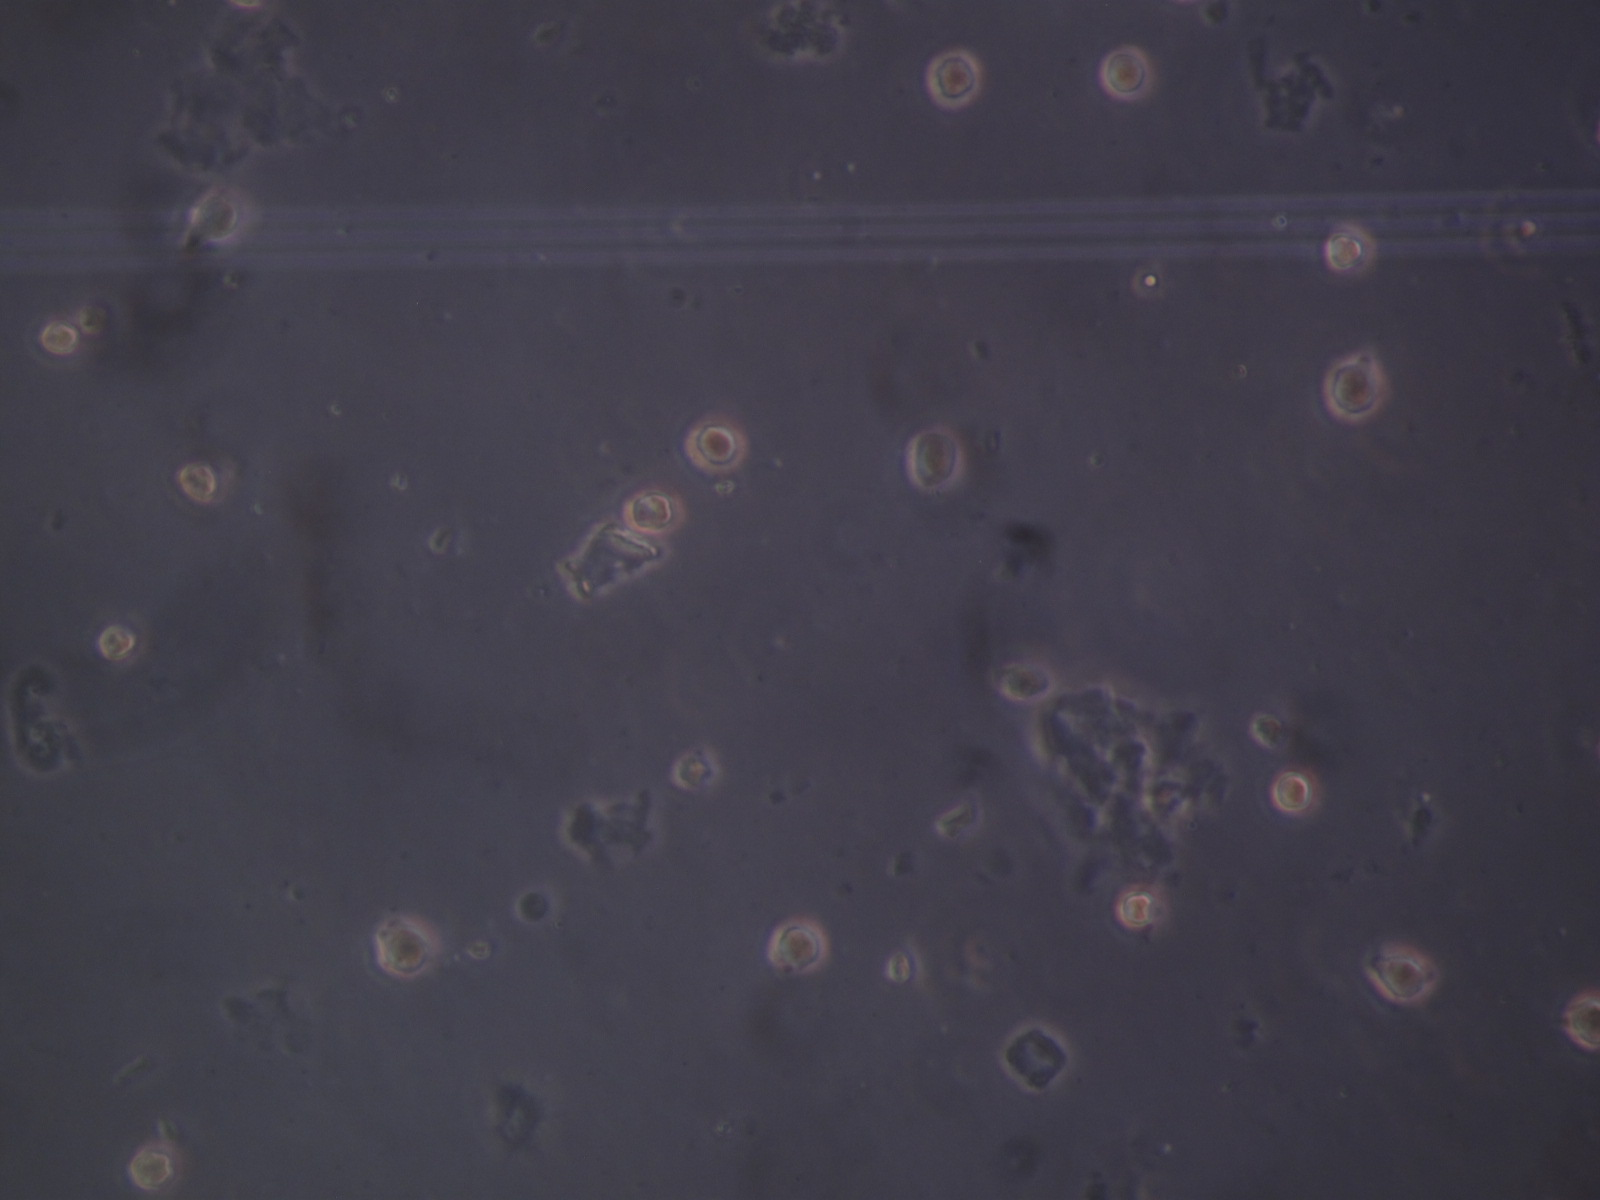hemo: (1002, 1020, 1071, 1092), (1322, 357, 1390, 424), (1374, 943, 1437, 1008), (905, 424, 964, 492), (767, 915, 828, 976), (377, 916, 433, 979), (684, 417, 746, 474), (929, 48, 981, 110), (1099, 43, 1153, 102), (1323, 222, 1376, 275), (624, 492, 685, 536), (129, 1143, 184, 1189), (190, 192, 239, 241), (999, 661, 1054, 702), (1563, 989, 1600, 1053), (1272, 768, 1320, 816), (176, 459, 219, 505), (670, 751, 719, 792), (1117, 884, 1157, 929), (39, 319, 81, 355), (96, 626, 139, 662)
